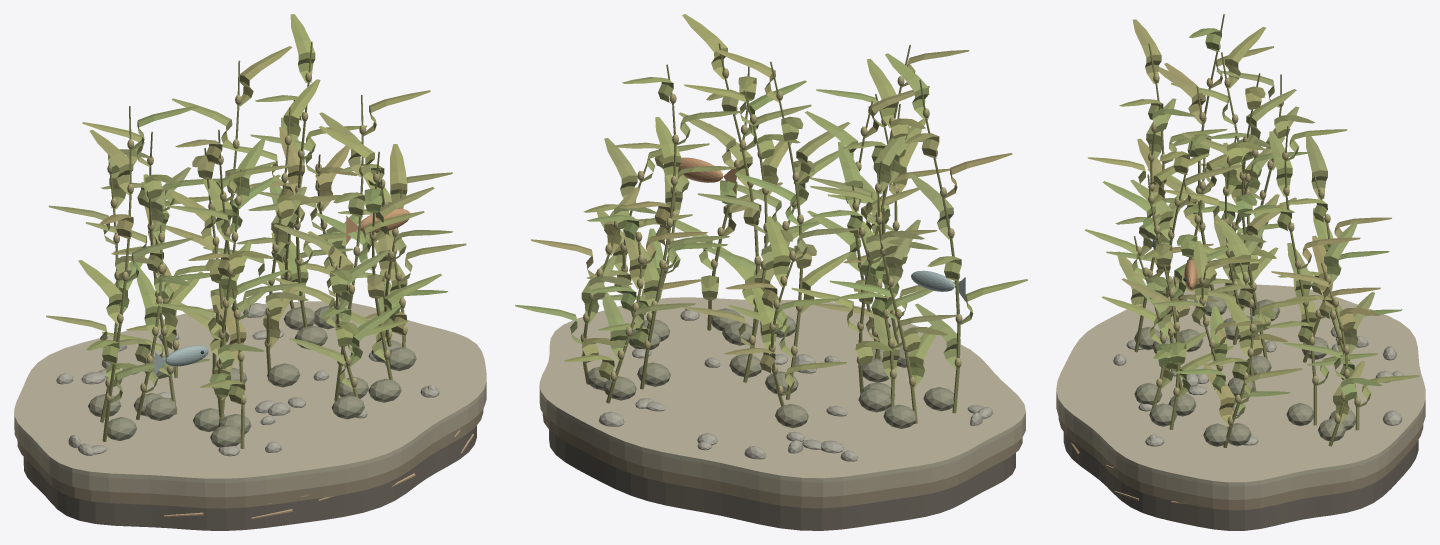
The model's file is kelp.glb.
3 renders of one model, left to right at view 1: azimuth 30°, elevation 25°; view 2: azimuth 150°, elevation 25°; view 3: azimuth 270°, elevation 25°, orthographic. The views are drawn at different scales.
Visible parts, largest first — view 1: world; view 2: world; view 3: world.
Boxes of the visible parts, bbox=[...] form: world: bbox=[14, 14, 486, 530]; world: bbox=[515, 14, 1027, 530]; world: bbox=[1056, 14, 1425, 530].
Size of the model in its own units: 1.8 by 1.5 by 1.4.
